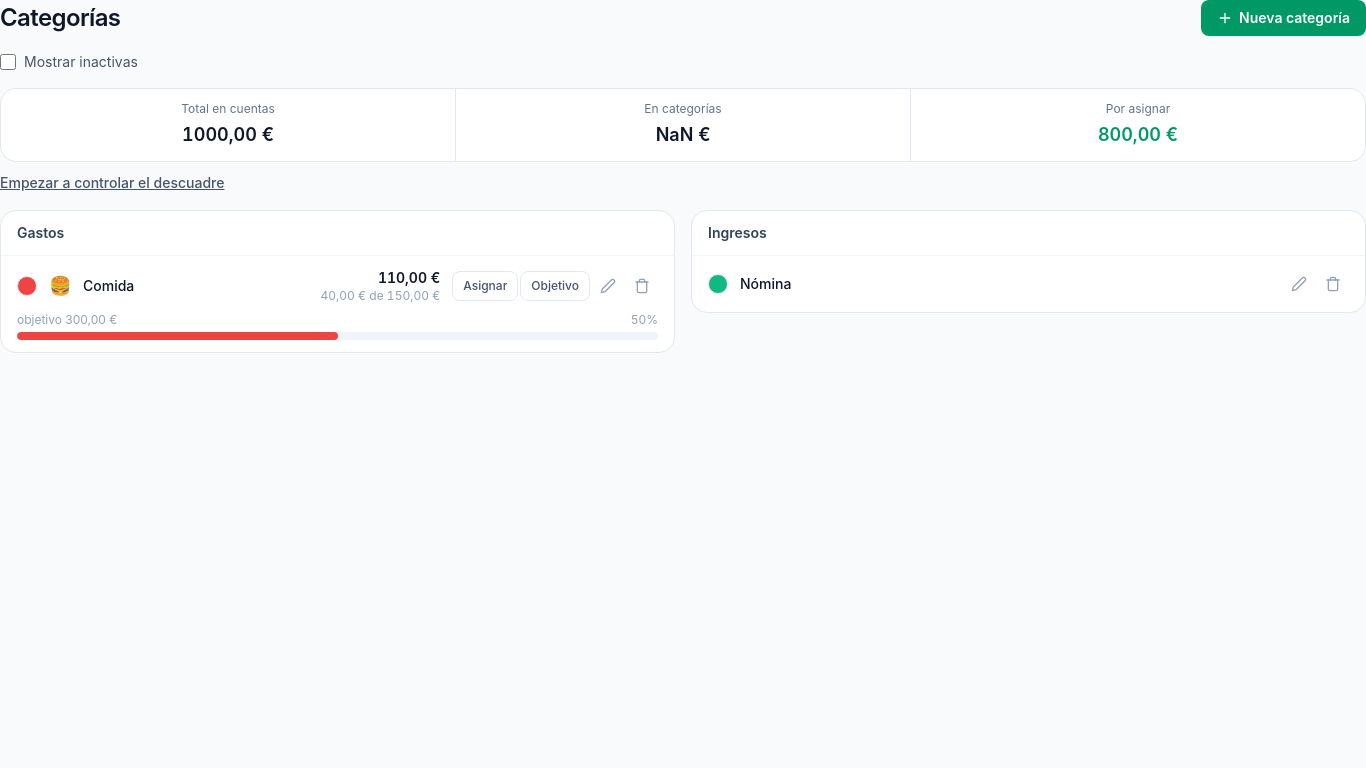
Scenario: CategoriesPage › keeps the loaded list visible and shows a banner when the delete fails
This screenshot has width=1366, height=768.
Check: the text "Comida" is shown, box [83,277,134,294]
Click the button named "Eliminar Comida".
click(642, 286)  # box [626,270,658,302]
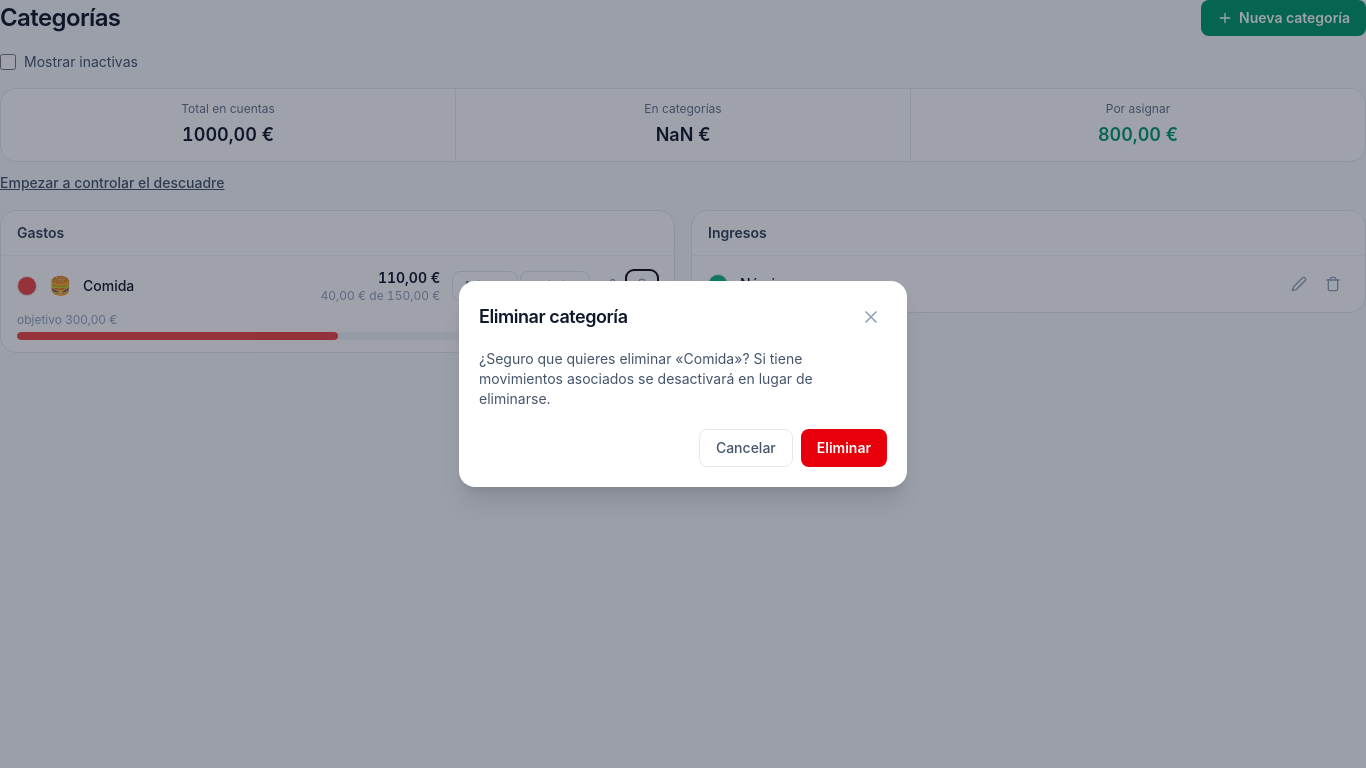
Click the button "Eliminar".
click(844, 448)  # box [801,429,887,467]
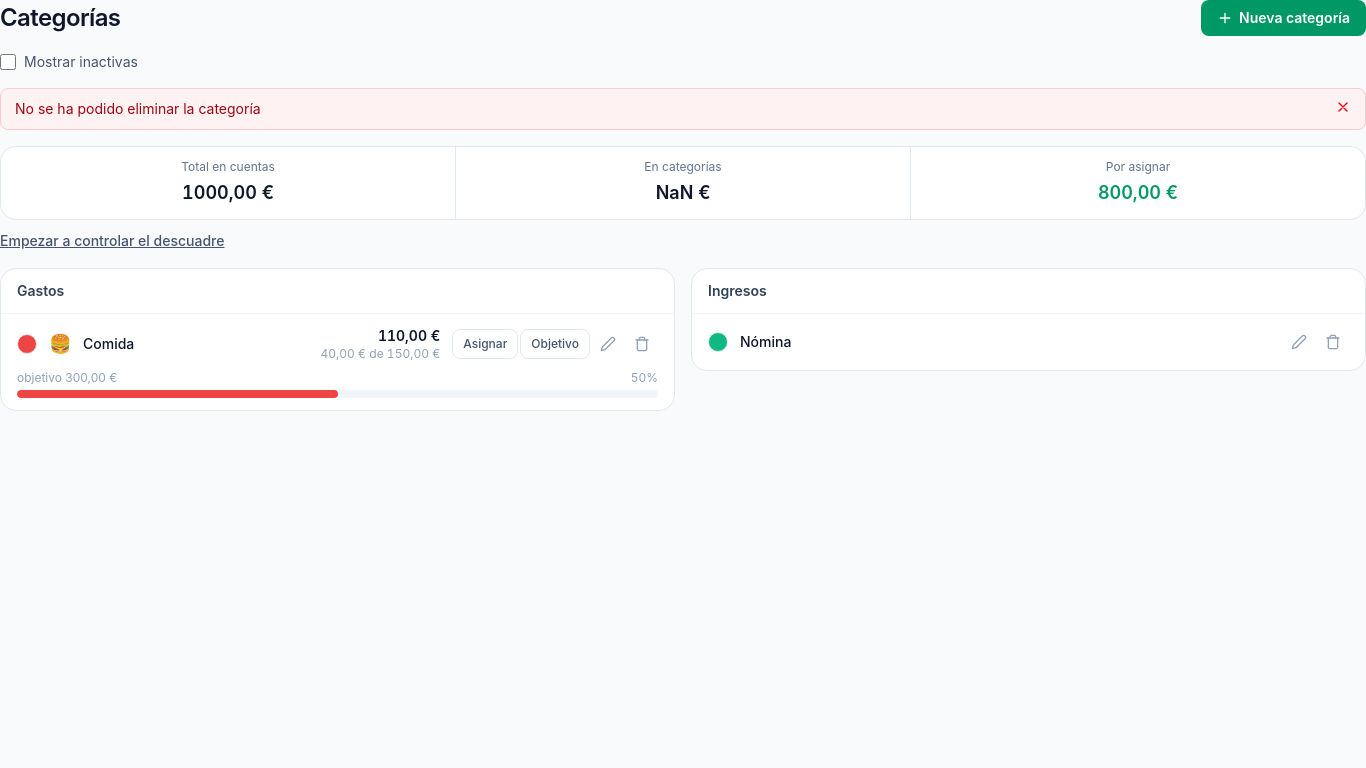
Check: the text "Comida" is shown, box [83,335,134,352]
Check: the message reads "No se ha podido eliminar la categoría", box [15,100,261,117]
